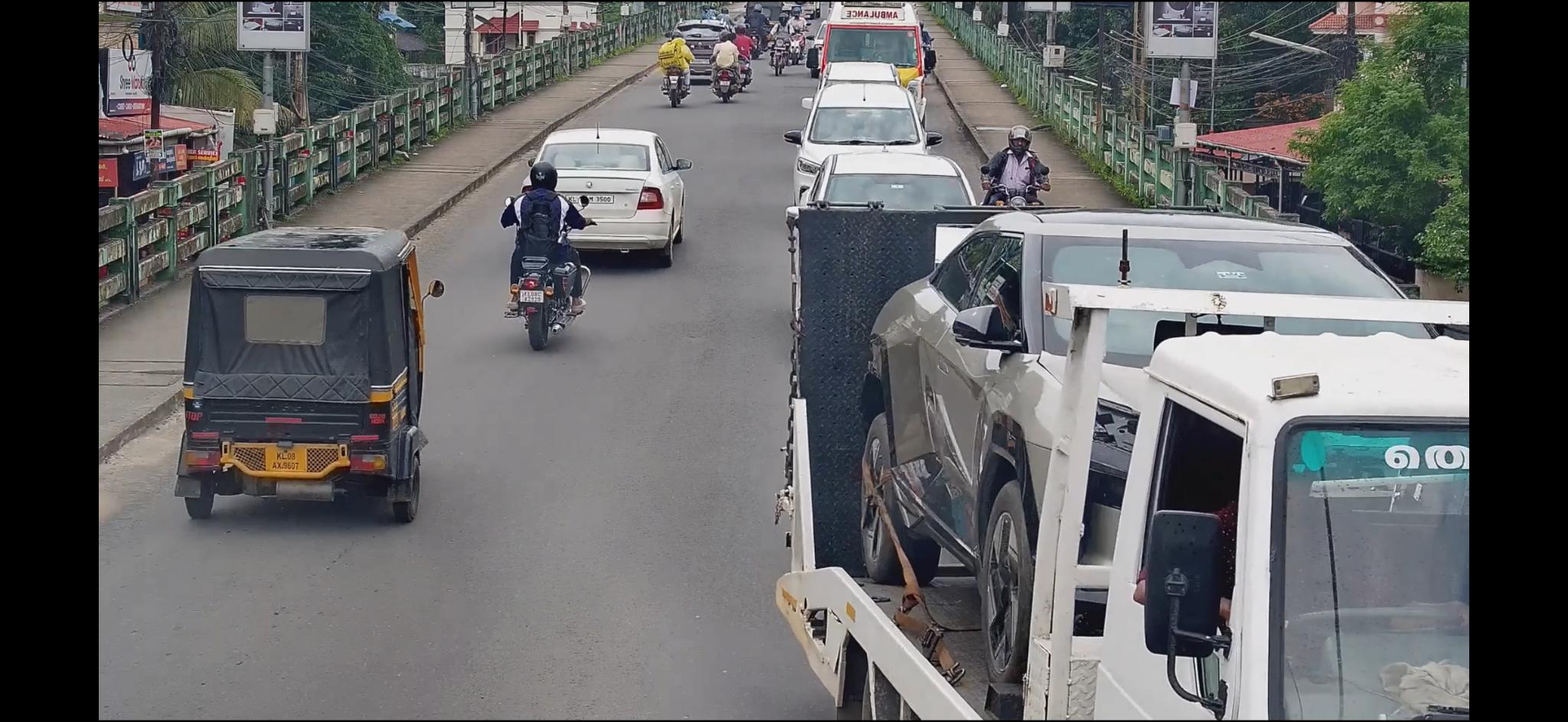ambulance: (821, 0, 927, 109)
